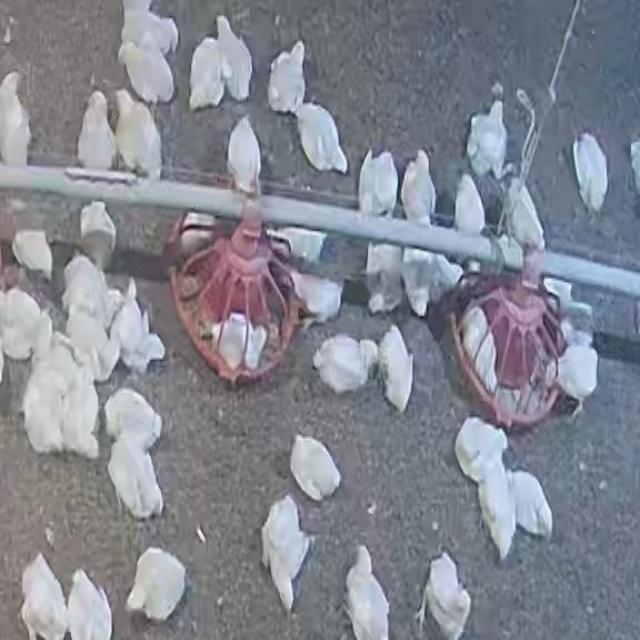chicken: (263, 498, 314, 610), (125, 547, 186, 625), (110, 434, 164, 518), (343, 548, 392, 640), (114, 92, 164, 177), (20, 555, 70, 640), (421, 554, 471, 638), (60, 363, 101, 458), (64, 306, 113, 379), (313, 334, 371, 395), (120, 39, 174, 104), (65, 568, 113, 640), (119, 1, 181, 56), (10, 196, 51, 279), (290, 433, 340, 501), (480, 464, 516, 558), (2, 287, 48, 360), (211, 314, 268, 372), (463, 303, 501, 390), (23, 364, 60, 453), (455, 417, 506, 481), (554, 340, 598, 414), (104, 389, 160, 447), (225, 115, 264, 198), (78, 91, 117, 173), (217, 16, 254, 101), (378, 324, 414, 411), (61, 253, 107, 321), (467, 100, 507, 176), (289, 270, 343, 325), (0, 71, 31, 165), (511, 472, 553, 539), (364, 244, 405, 312), (267, 42, 305, 114), (109, 281, 142, 363), (358, 150, 397, 218), (79, 200, 118, 268), (574, 133, 608, 210), (400, 152, 436, 222), (188, 38, 223, 110), (400, 248, 438, 314), (508, 180, 544, 248), (454, 172, 487, 236)
